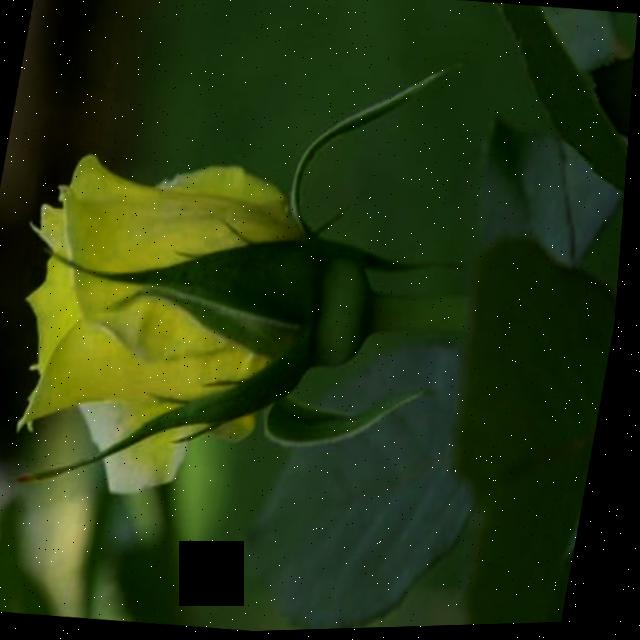rose: (0, 99, 427, 526)
